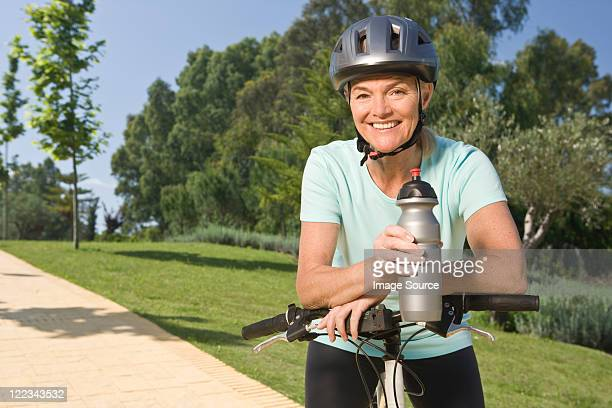helmet: (329, 16, 439, 153)
